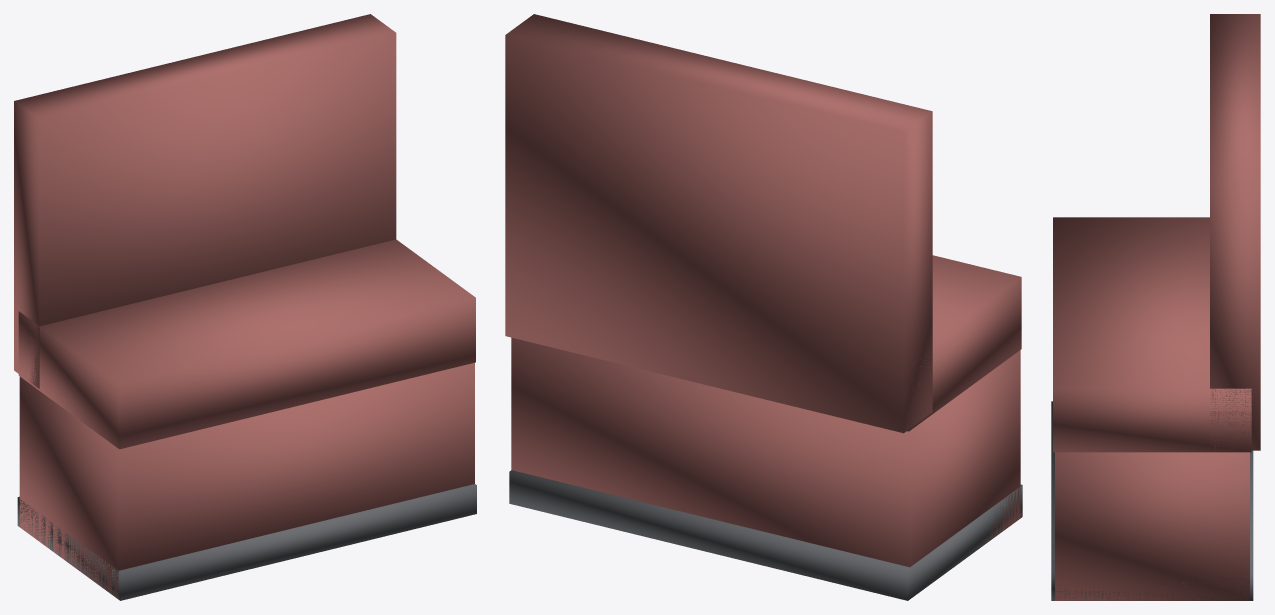
Rendered from diner_booth_single__compact.glb.
The picture shows the model from 3 angles, left to right: view 1: azimuth 30°, elevation 25°; view 2: azimuth 150°, elevation 25°; view 3: azimuth 270°, elevation 25°; orthographic projection. The views are drawn at different scales.
Visible parts, largest first — view 1: world; view 2: world; view 3: world.
Boxes of the visible parts, <box> form: world: <box>14,14,476,600</box>; world: <box>505,14,1022,600</box>; world: <box>1051,14,1260,600</box>.
Size of the model in its own units: 0.966 by 1.09 by 0.4988.
